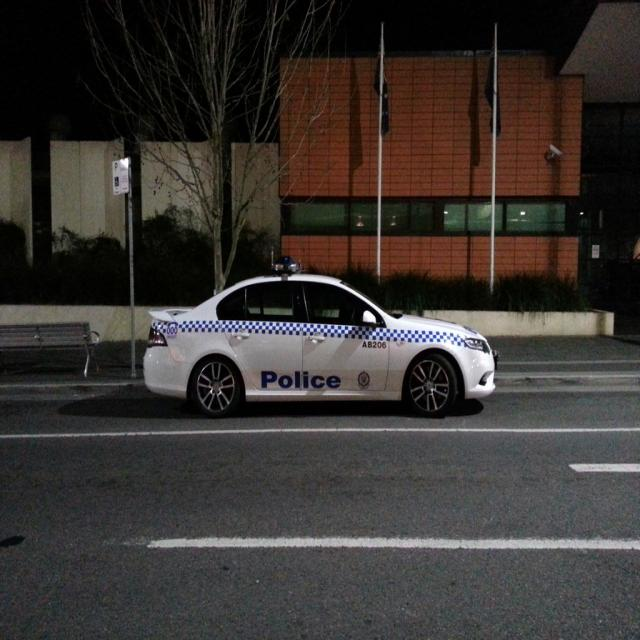car: (152, 254, 484, 418)
